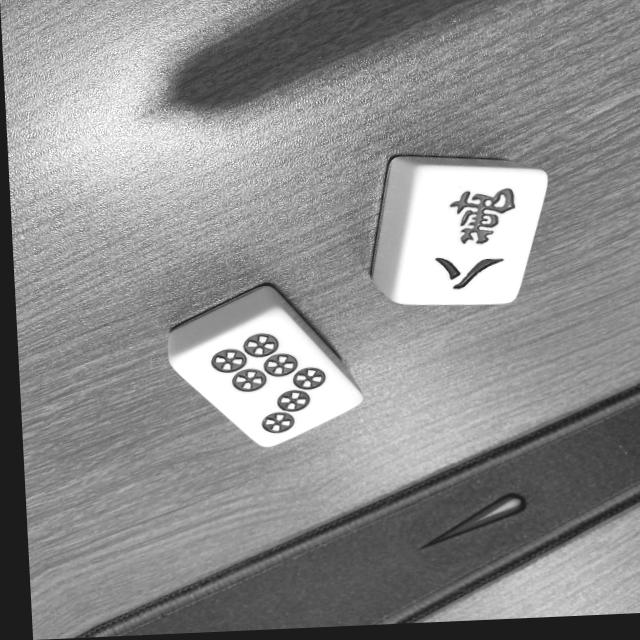m8: (390, 157, 552, 307)
t7: (168, 285, 363, 454)
